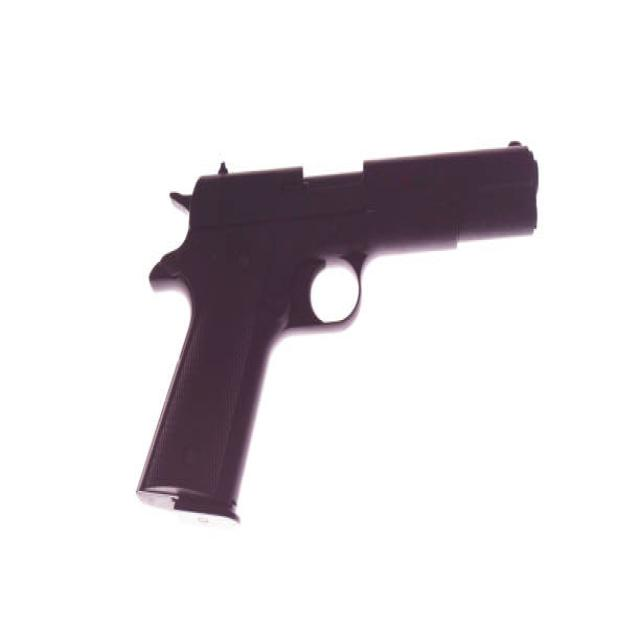pistol: (137, 134, 547, 534)
